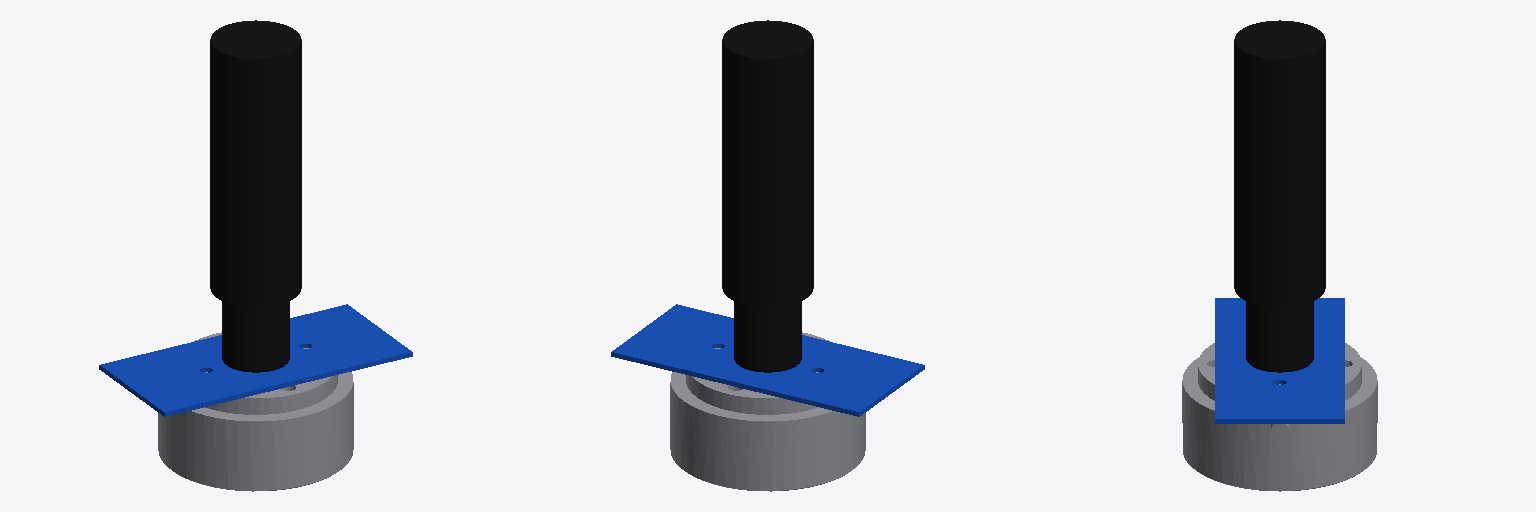
The robot description file, URDF, robot "joystick_tool":
<?xml version="1.0"?>
<!--
  joystick_tool.urdf
  Mastro de reabilitação (Gazebo Classic): o voluntário segura a empunhadura
  e a FA7155 mede a força que ele faz sobre o robô. Pilha no eixo +Z do
  flange do CR10 (Link6), em mm:

      0,0 …   6,0   flange fixo FA7155   (⌀75 alumínio, parafusa no punho)
      0,4 …  36,9   célula FA7155        (6 eixos, 300 g de catálogo)
     37,2 …  39,2   placa do mastro      (110 × 50 × 2, impressa)
     39,2 … 174,2   empunhadura          (⌀35 × 135 MEDIDA, SILICONE/BORRACHA)

  A pilha célula → placa reaproveita a altura de montagem do touch_pack
  (junta em 37,2 mm do flange, onde o acoplador hot-swap encosta na célula).
  Os meshes do flange e da célula são cópia dos do touch_pack: este pacote
  não depende dele.

  tcp_link = centro da empunhadura (Z = 106,7 mm do flange), onde a mão
  fica. A força é medida em load_cell_link; para levá-la ao tcp_link há um
  braço de 70 mm (M = r × F) — o controlador precisa dessa transformação.

  MASSAS E INÉRCIAS: calculadas da geometria real por
  scripts/gen_joystick_meshes.py (que também gera os STL). Placa: 950 kg/m³
  (impressa). Empunhadura: massa PESADA (mastro = 285,9 g) num cilindro UNIFORME de
  ⌀35 × 135: nem maciça de silicone a peça daria esse peso, então há outro material
  e a distribuição oca do STEP não vale. MEÇA O PONTO DE EQUILÍBRIO (esperado: 67 mm
  da face da placa que encosta na célula).

  ATRITO: a "superfície rugosa" da borracha é modelada só como atrito alto
  (mu 1,2) e acabamento fosco. A rugosidade não existe na geometria.

  O bloco da F/T simulada (no fim do arquivo, entre dois comentários-marcador)
  é removido pelo builder quando sim_ft=false — ver rehab_pack/urdf_builder.py.
  Não repita o texto dos marcadores em nenhum outro comentário.
-->
<robot name="joystick_tool">

  <!-- Andaime standalone (check_urdf): o CR10 fornece world e Link6. -->
  <link name="world"/>
  <joint name="world_to_base" type="fixed">
    <parent link="world"/>
    <child link="Link6"/>
    <origin xyz="0 0 0" rpy="0 0 0"/>
  </joint>
  <link name="Link6">
    <inertial>
      <mass value="0.001"/>
      <inertia ixx="1e-9" ixy="0.0" ixz="0.0" iyy="1e-9" iyz="0.0" izz="1e-9"/>
    </inertial>
  </link>

  <material name="printed_blue"><color rgba="0.11 0.35 0.78 1.0"/></material>
  <material name="steel_grey"><color rgba="0.62 0.63 0.65 1.0"/></material>
  <material name="silicone_black"><color rgba="0.10 0.10 0.11 1.0"/></material>

  <!-- Flange fixo FA7155 (disco de alumínio ⌀75 × 6). -->
  <link name="ft_flange_link">
    <inertial>
      <origin xyz="0.00018 0.00010 0.00295" rpy="0 0 0"/>
      <mass value="0.0518"/>
      <inertia ixx="2.149e-05" ixy="-1.491e-07" ixz="-4.657e-10"
               iyy="2.224e-05" iyz="-2.689e-10" izz="4.341e-05"/>
    </inertial>
    <visual>
      <geometry>
        <mesh filename="package://rehab_pack/meshes/fa7155_flange_fixo.stl"
              scale="0.001 0.001 0.001"/>
      </geometry>
      <material name="steel_grey"/>
    </visual>
    <collision name="col_ft_flange">
      <origin xyz="0 0 0.003" rpy="0 0 0"/>
      <geometry><cylinder radius="0.0375" length="0.006"/></geometry>
    </collision>
  </link>
  <joint name="ft_flange_attach" type="fixed">
    <parent link="Link6"/>
    <child link="ft_flange_link"/>
    <origin xyz="0 0 0" rpy="0 0 0"/>
  </joint>

  <!-- Célula FA7155 de 6 eixos. Massa de catálogo (300 g), não a da geometria:
       o STEP é o envelope externo sem a eletrônica. O saliente em +X é o
       conector do cabo; a colisão cilíndrica o ignora. -->
  <link name="load_cell_link">
    <inertial>
      <origin xyz="0.00010 0.00008 0.01933" rpy="0 0 0"/>
      <mass value="0.3000"/>
      <inertia ixx="1.233e-04" ixy="2.380e-09" ixz="-2.932e-07"
               iyy="1.258e-04" iyz="2.405e-07" izz="2.059e-04"/>
    </inertial>
    <visual>
      <geometry>
        <mesh filename="package://rehab_pack/meshes/fa7155_sensor.stl"
              scale="0.001 0.001 0.001"/>
      </geometry>
      <material name="steel_grey"/>
    </visual>
    <collision name="col_load_cell">
      <origin xyz="0 0 0.02105" rpy="0 0 0"/>
      <geometry><cylinder radius="0.0375" length="0.0309"/></geometry>
    </collision>
  </link>
  <joint name="load_cell_attach" type="fixed">
    <parent link="ft_flange_link"/>
    <child link="load_cell_link"/>
    <origin xyz="0 0 0.0004" rpy="0 0 0"/>
  </joint>

  <!-- Placa do mastro (Corpo1 do STEP), impressa. Origem no centro da face
       de baixo, que encosta na face móvel da célula. -->
  <link name="joystick_plate_link">
    <inertial>
      <origin xyz="0.00000 0.00000 0.00100" rpy="0 0 0"/>
      <mass value="0.0094"/>
      <inertia ixx="2.137e-06" ixy="0.0" ixz="0.0"
               iyy="1.046e-05" iyz="0.0" izz="1.259e-05"/>
    </inertial>
    <visual>
      <geometry>
        <mesh filename="package://rehab_pack/meshes/joystick_placa.stl"
              scale="0.001 0.001 0.001"/>
      </geometry>
      <material name="printed_blue"/>
    </visual>
    <collision name="col_plate">
      <origin xyz="0 0 0.001" rpy="0 0 0"/>
      <geometry><box size="0.110 0.050 0.002"/></geometry>
    </collision>
  </link>
  <joint name="joystick_plate_attach" type="fixed">
    <parent link="load_cell_link"/>
    <child link="joystick_plate_link"/>
    <origin xyz="0 0 0.0368" rpy="0 0 0"/>
  </joint>

  <!-- Empunhadura (Corpo2): silicone/borracha, oca (⌀35 externo). Origem no
       centro da base, 2 mm acima da face da placa. -->
  <link name="joystick_grip_link">
    <inertial>
      <origin xyz="0.00000 0.00000 0.06750" rpy="0 0 0"/>
      <mass value="0.2765"/>
      <inertia ixx="4.411e-04" ixy="0.0" ixz="0.0"
               iyy="4.411e-04" iyz="0.0" izz="4.234e-05"/>
    </inertial>
    <visual>
      <geometry>
        <mesh filename="package://rehab_pack/meshes/joystick_empunhadura.stl"
              scale="0.001 0.001 0.0009"/>  <!-- STEP: 150 mm; peça: 135 -->
      </geometry>
      <material name="silicone_black"/>
    </visual>
    <collision name="col_grip">
      <origin xyz="0 0 0.0675" rpy="0 0 0"/>
      <geometry><cylinder radius="0.0175" length="0.135"/></geometry>
    </collision>
  </link>
  <joint name="joystick_grip_attach" type="fixed">
    <parent link="joystick_plate_link"/>
    <child link="joystick_grip_link"/>
    <origin xyz="0 0 0.002" rpy="0 0 0"/>
  </joint>

  <!-- Centro da empunhadura: onde a mão fica. -->
  <link name="tcp_link"/>
  <joint name="tcp_alias_joint" type="fixed">
    <parent link="joystick_grip_link"/>
    <child link="tcp_link"/>
    <origin xyz="0 0 0.0675" rpy="0 0 0"/>
  </joint>

  <gazebo reference="Link6">
    <self_collide>0</self_collide>
  </gazebo>

  <gazebo reference="ft_flange_link">
    <self_collide>0</self_collide><gravity>true</gravity>
    <visual><material>
      <ambient>0.40 0.41 0.43 1</ambient>
      <diffuse>0.62 0.63 0.65 1</diffuse>
      <specular>0.85 0.85 0.90 1</specular>
    </material></visual>
  </gazebo>

  <gazebo reference="load_cell_link">
    <self_collide>0</self_collide><gravity>true</gravity>
    <visual><material>
      <ambient>0.40 0.41 0.43 1</ambient>
      <diffuse>0.62 0.63 0.65 1</diffuse>
      <specular>0.85 0.85 0.90 1</specular>
    </material></visual>
  </gazebo>

  <gazebo reference="joystick_plate_link">
    <self_collide>0</self_collide><gravity>true</gravity>
    <mu1>0.40</mu1><mu2>0.40</mu2>
    <visual><material>
      <ambient>0.06 0.20 0.45 1</ambient>
      <diffuse>0.11 0.35 0.78 1</diffuse>
      <specular>0.25 0.25 0.30 1</specular>
    </material></visual>
  </gazebo>

  <!-- Borracha: atrito alto e acabamento fosco (specular baixo). -->
  <gazebo reference="joystick_grip_link">
    <self_collide>0</self_collide><gravity>true</gravity>
    <mu1>1.20</mu1><mu2>1.20</mu2>
    <visual><material>
      <ambient>0.05 0.05 0.06 1</ambient>
      <diffuse>0.10 0.10 0.11 1</diffuse>
      <specular>0.03 0.03 0.03 1</specular>
    </material></visual>
  </gazebo>

  <!-- F/T simulada na junta onde a FA7155 real está montada: a que liga a
       face móvel da célula à placa, ou seja, mede o que vem de cima (placa,
       empunhadura e a mão). Preservar a junta tira do lumping esses 286 g, e o
       touch_pack mediu J4 oscilando por causa disso com a pilha dele — por
       isso este bloco só entra com sim_ft=true. O plugin publica
       WrenchStamped em /sim/load_cell/wrench. -->
  <!--SIM_FT_BEGIN-->
  <gazebo reference="joystick_plate_attach">
    <disableFixedJointLumping>true</disableFixedJointLumping>
    <provideFeedback>true</provideFeedback>
  </gazebo>
  <gazebo>
    <plugin name="sim_load_cell_ft" filename="libgazebo_ros_ft_sensor.so">
      <ros>
        <namespace>/</namespace>
        <remapping>wrench:=/sim/load_cell/wrench</remapping>
      </ros>
      <joint_name>joystick_plate_attach</joint_name>
      <update_rate>80.0</update_rate>
      <gaussian_noise>0.02</gaussian_noise>
    </plugin>
  </gazebo>
  <!--SIM_FT_END-->

</robot>

--- Facts derived from the render (not from the file) ---
The picture shows the robot from 3 angles, left to right: view 1: azimuth 30°, elevation 25°; view 2: azimuth 150°, elevation 25°; view 3: azimuth 270°, elevation 25°; orthographic projection.
Robot: joystick_tool — 7 links, 6 joints (6 fixed); root link world; default pose: every joint at zero.
Visible links, largest first — view 1: joystick_grip_link, load_cell_link, joystick_plate_link, ft_flange_link; view 2: joystick_grip_link, load_cell_link, joystick_plate_link, ft_flange_link; view 3: joystick_grip_link, load_cell_link, joystick_plate_link, ft_flange_link.
Link boxes in pixels (bbox=[...]): joystick_grip_link: bbox=[210, 20, 301, 372]; load_cell_link: bbox=[158, 332, 353, 478]; joystick_plate_link: bbox=[99, 304, 412, 416]; ft_flange_link: bbox=[158, 438, 353, 491]; joystick_grip_link: bbox=[722, 20, 813, 372]; load_cell_link: bbox=[670, 332, 865, 478]; joystick_plate_link: bbox=[611, 304, 924, 416]; ft_flange_link: bbox=[670, 438, 865, 491]; joystick_grip_link: bbox=[1234, 20, 1325, 372]; load_cell_link: bbox=[1182, 343, 1377, 478]; joystick_plate_link: bbox=[1215, 298, 1344, 423]; ft_flange_link: bbox=[1183, 444, 1376, 491].
Bounding box of the posed robot: 0.11 × 0.075 × 0.1742 m (x, y, z).
4 mesh visuals loaded from 4 distinct referenced files (4 binary STL).
